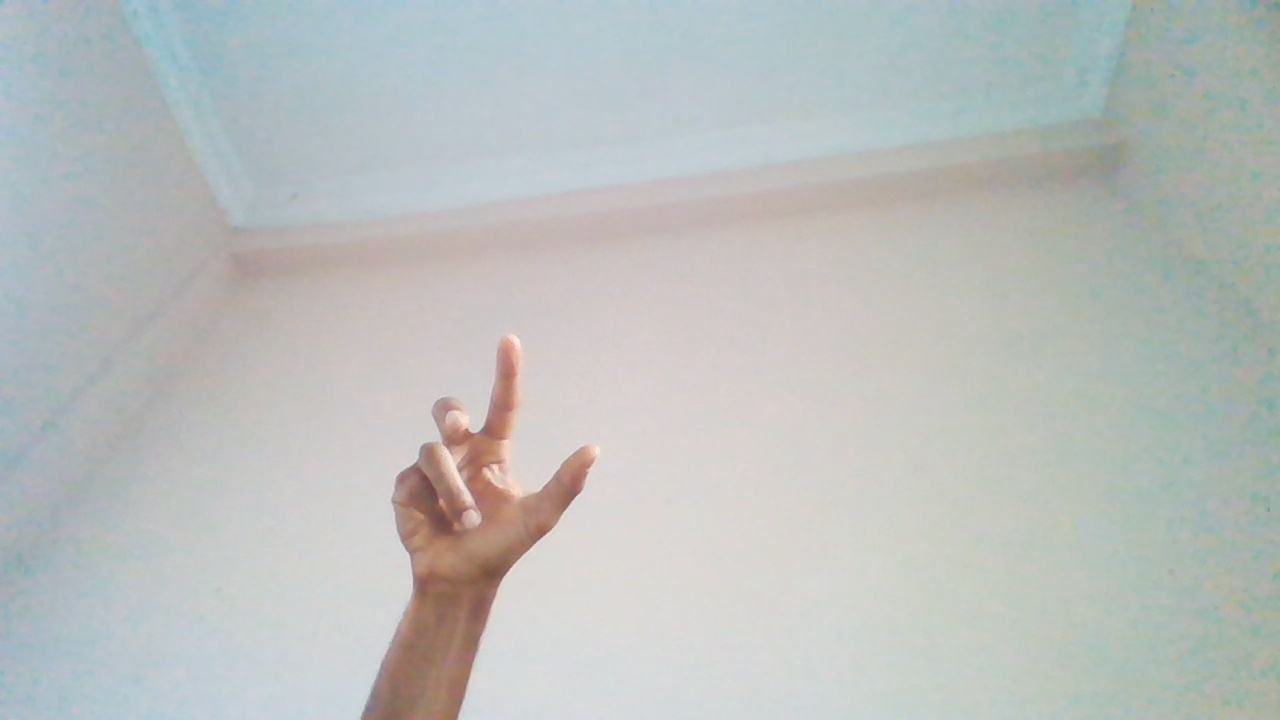hhe: (386, 333, 601, 670)
